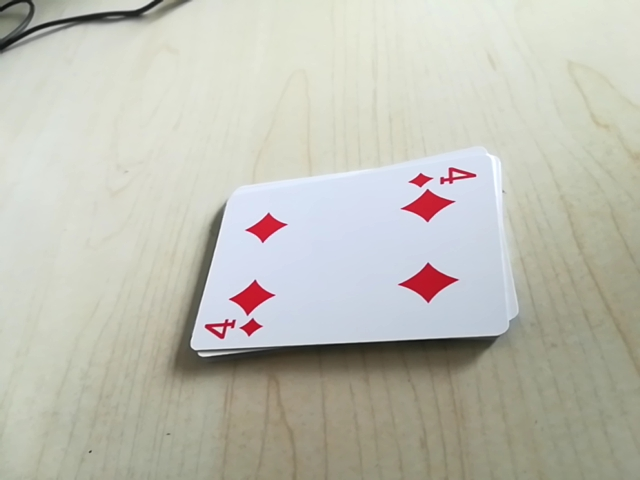fk 4: (406, 159, 487, 193), (196, 318, 271, 350)
